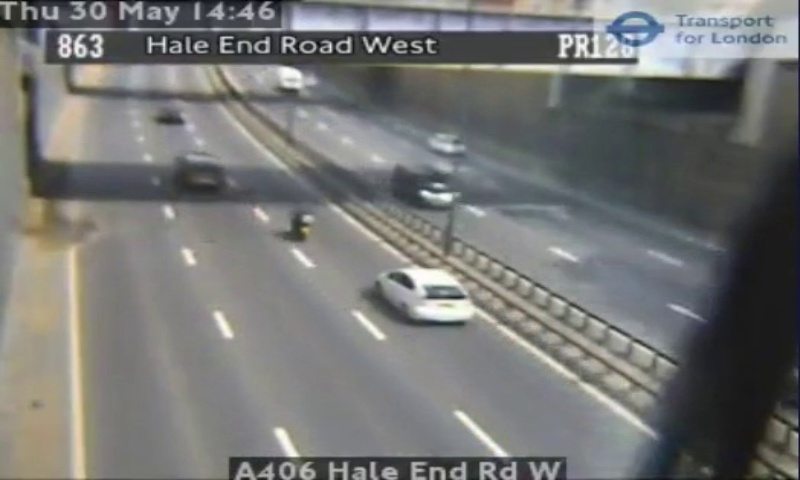car: (375, 267, 471, 322)
motorcycle: (290, 208, 316, 242)
